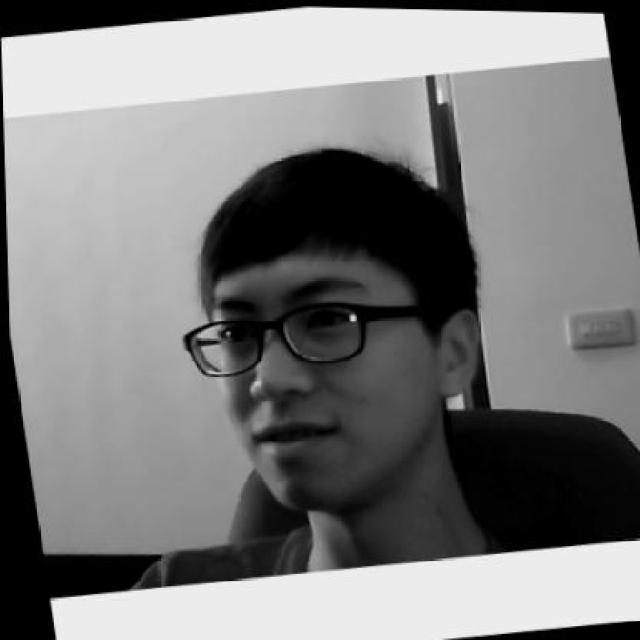attentif: (154, 127, 501, 527)
